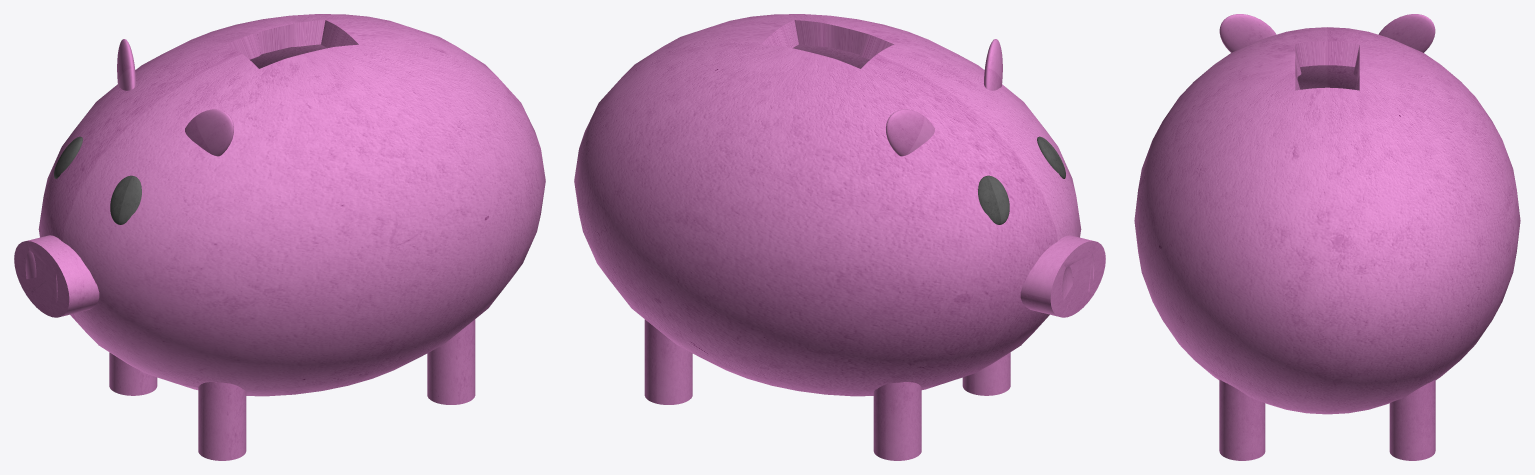
The model's file is piggy_bank.fbx.
3 renders of one model, left to right at view 1: azimuth 30°, elevation 25°; view 2: azimuth 150°, elevation 25°; view 3: azimuth 270°, elevation 25°, orthographic. The views are drawn at different scales.
Visible parts, largest first — view 1: Sphere, Cylinder.004, Cylinder, Cylinder.002, Sphere.002, Cylinder.001, Sphere.004, Sphere.001; view 2: Sphere, Cylinder.004, Cylinder.001, Cylinder.003, Sphere.001, Cylinder, Sphere.003, Sphere.002; view 3: Sphere, Cylinder.002, Cylinder.003, Sphere.001, Sphere.002.
Boxes of the visible parts, x1,y1,x2,y2 form: Sphere: (38,14,545,396); Cylinder.004: (14,235,99,317); Cylinder: (198,382,246,460); Cylinder.002: (427,319,475,404); Sphere.002: (185,109,233,156); Cylinder.001: (109,352,157,395); Sphere.004: (110,175,141,224); Sphere.001: (117,39,135,90); Sphere: (574,14,1081,396); Cylinder.004: (1020,235,1105,317); Cylinder.001: (873,382,921,460); Cylinder.003: (644,319,692,404); Sphere.001: (886,109,934,156); Cylinder: (962,352,1010,395); Sphere.003: (978,175,1009,224); Sphere.002: (984,39,1002,90); Sphere: (1134,27,1520,414); Cylinder.002: (1219,379,1265,460); Cylinder.003: (1389,379,1435,460); Sphere.001: (1378,14,1435,52); Sphere.002: (1219,14,1276,52).
Bounding box in the file's own units: 232 × 161 × 168.
2 materials, 2 textured.
